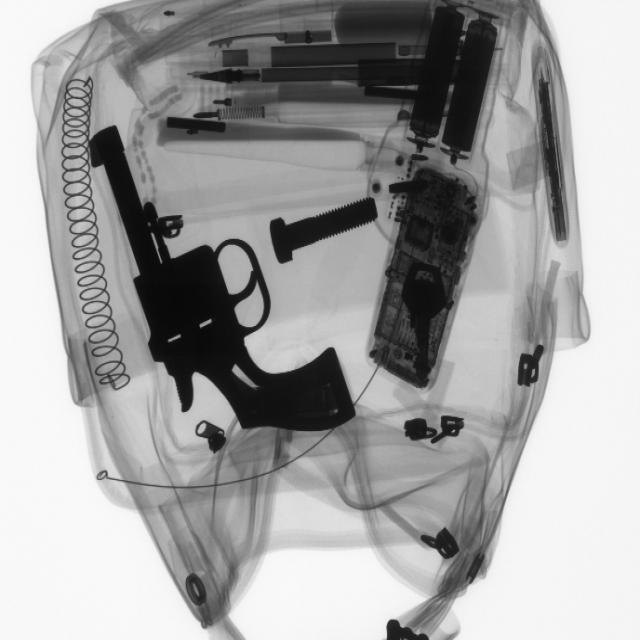GUN: (84, 132, 361, 437)
